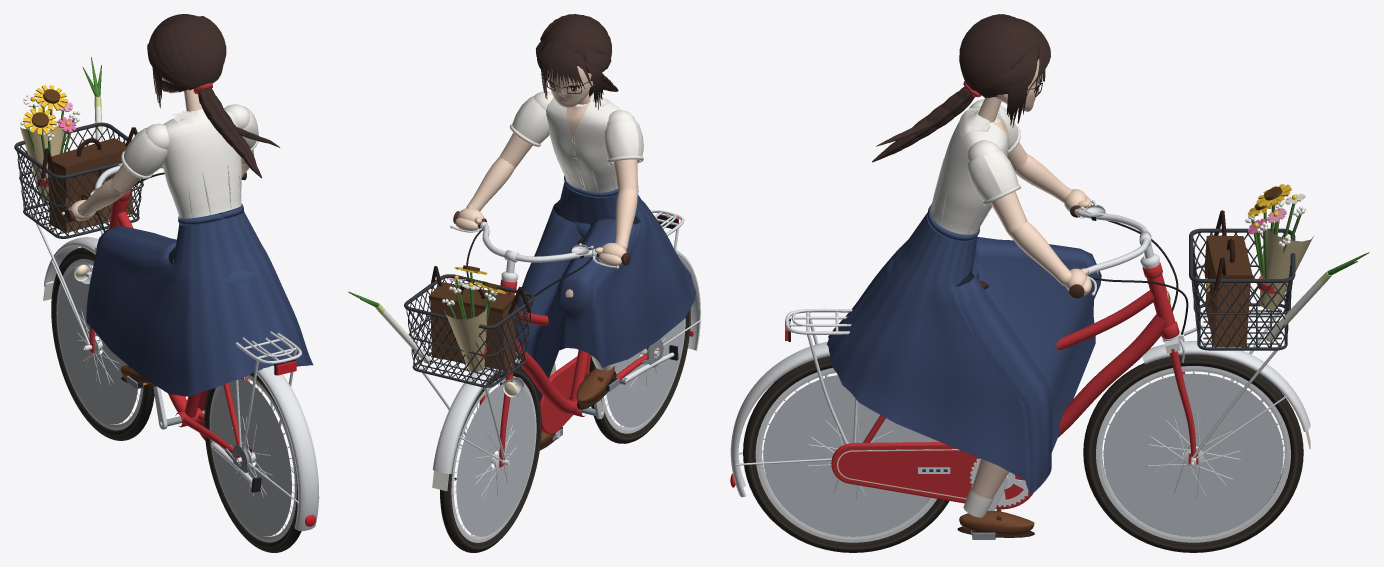
The model's file is bike.glb.
3 renders of one model, left to right at view 1: azimuth 30°, elevation 25°; view 2: azimuth 150°, elevation 25°; view 3: azimuth 270°, elevation 25°, orthographic. The views are drawn at different scales.
Visible parts, largest first — view 1: bike_rider_gradient (×2), bike_rider_c7ccd2, bike_rider_e3e6ea, bike_rider_f6f4ef (×2), bike_rider_3b2a26, bike_rider_35383d, bike_rider_2a2622, bike_rider_c42e35, bike_rider_f6d9c5, bike_rider_f2c232, bike_rider_d9dce0, bike_rider_38496e (+3 smaller); view 2: bike_rider_gradient (×2), bike_rider_c7ccd2, bike_rider_e3e6ea, bike_rider_f6f4ef (×2), bike_rider_f6d9c5, bike_rider_35383d, bike_rider_3b2a26, bike_rider_c42e35, bike_rider_2a2622, bike_rider_6a4026, bike_rider_d9dce0, bike_rider_8e949b (+3 smaller); view 3: bike_rider_gradient (×2), bike_rider_c7ccd2, bike_rider_e3e6ea, bike_rider_c42e35, bike_rider_2a2622, bike_rider_3b2a26, bike_rider_f6f4ef (×2), bike_rider_f6d9c5, bike_rider_35383d, bike_rider_d9dce0, bike_rider_6a4026, bike_rider_497a32.
Boxes of the visible parts, left/top/right/bottom form: bike_rider_gradient (×2): left=20, top=57, right=313, bottom=552; bike_rider_c7ccd2: left=58, top=268, right=291, bottom=536; bike_rider_e3e6ea: left=31, top=163, right=319, bottom=542; bike_rider_f6f4ef (×2): left=123, top=104, right=258, bottom=218; bike_rider_3b2a26: left=147, top=14, right=280, bottom=178; bike_rider_35383d: left=14, top=122, right=143, bottom=238; bike_rider_2a2622: left=51, top=248, right=301, bottom=552; bike_rider_c42e35: left=89, top=190, right=288, bottom=463; bike_rider_f6d9c5: left=68, top=77, right=254, bottom=261; bike_rider_f2c232: left=23, top=85, right=70, bottom=135; bike_rider_d9dce0: left=77, top=266, right=294, bottom=529; bike_rider_38496e: left=178, top=203, right=255, bottom=284; bike_rider_gradient (×2): left=348, top=94, right=696, bottom=552; bike_rider_c7ccd2: left=456, top=319, right=684, bottom=536; bike_rider_e3e6ea: left=419, top=210, right=701, bottom=542; bike_rider_f6f4ef (×2): left=512, top=91, right=643, bottom=192; bike_rider_f6d9c5: left=455, top=65, right=638, bottom=375; bike_rider_35383d: left=404, top=274, right=534, bottom=387; bike_rider_3b2a26: left=535, top=14, right=618, bottom=109; bike_rider_c42e35: left=479, top=279, right=657, bottom=467; bike_rider_2a2622: left=440, top=308, right=690, bottom=552; bike_rider_6a4026: left=540, top=366, right=614, bottom=446; bike_rider_d9dce0: left=453, top=337, right=666, bottom=529; bike_rider_8e949b: left=552, top=339, right=663, bottom=440; bike_rider_gradient (×2): left=743, top=152, right=1369, bottom=550; bike_rider_c7ccd2: left=763, top=373, right=1283, bottom=536; bike_rider_e3e6ea: left=730, top=200, right=1310, bottom=542; bike_rider_c42e35: left=831, top=262, right=1198, bottom=509; bike_rider_2a2622: left=743, top=354, right=1303, bottom=552; bike_rider_3b2a26: left=872, top=14, right=1050, bottom=162; bike_rider_f6f4ef (×2): left=927, top=99, right=1018, bottom=234; bike_rider_f6d9c5: left=971, top=59, right=1098, bottom=498; bike_rider_35383d: left=1189, top=228, right=1295, bottom=350; bike_rider_d9dce0: left=785, top=373, right=1260, bottom=500; bike_rider_6a4026: left=959, top=510, right=1034, bottom=534; bike_rider_497a32: left=1251, top=203, right=1301, bottom=278.
Size of the model in its own units: 0.698 by 1.82 by 1.97.
